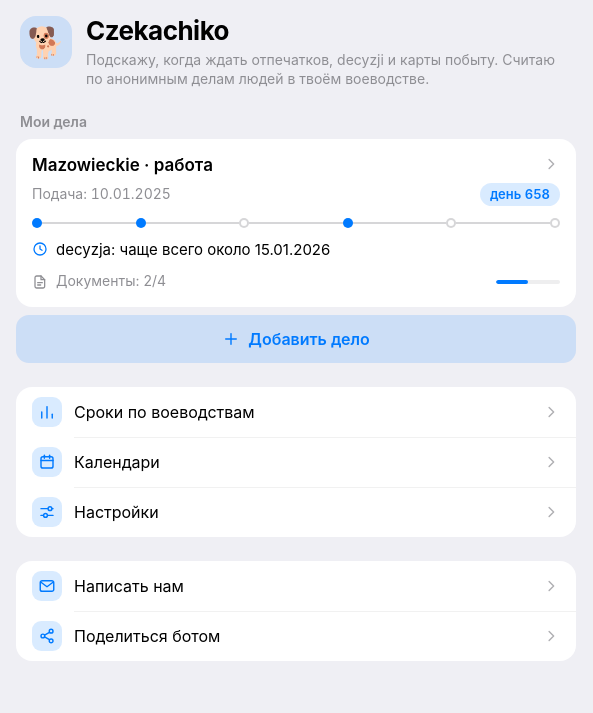
Test: Stats by permit type › opens on the first case’s basis and the latest case’s channel
Click the button "Сроки по воеводствам".
click(164, 412)  # box [16,387,576,437]
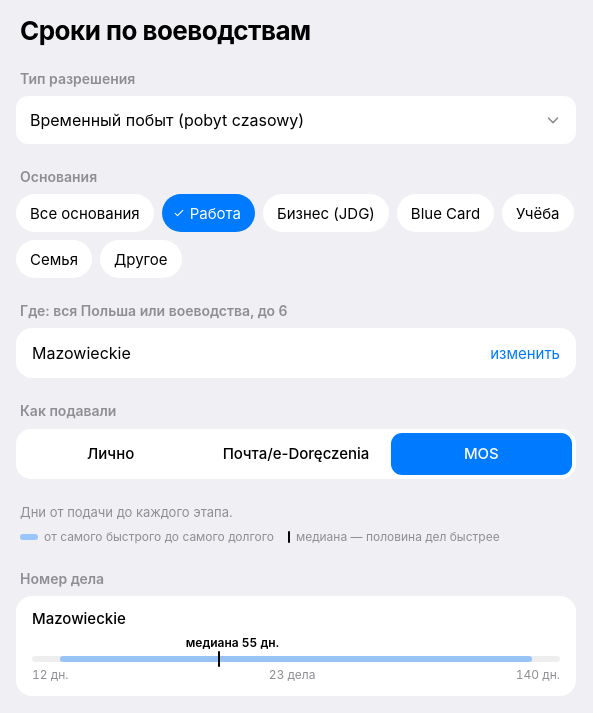
Result: the checkbox labelled "Работа" is checked at [162,194,255,232]
Result: the radio button labelled "MOS" is checked at [391,433,572,475]
